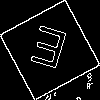E: (25, 25, 70, 78)
